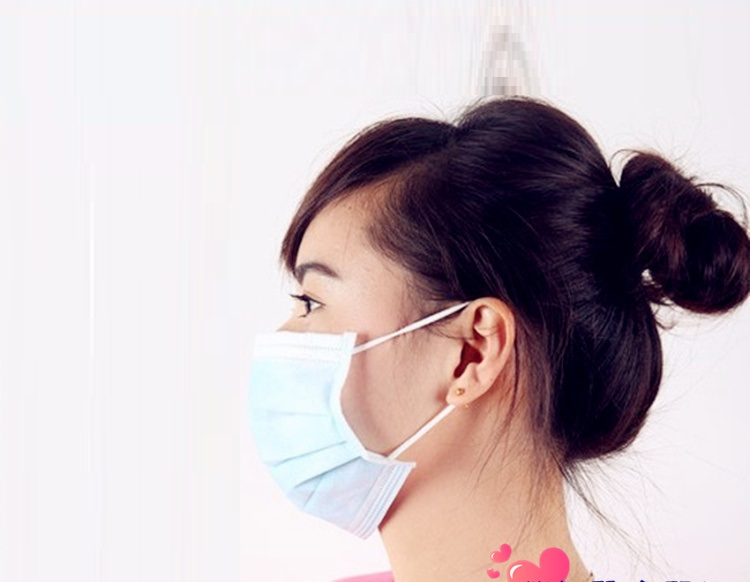face_mask: (241, 206, 417, 532)
